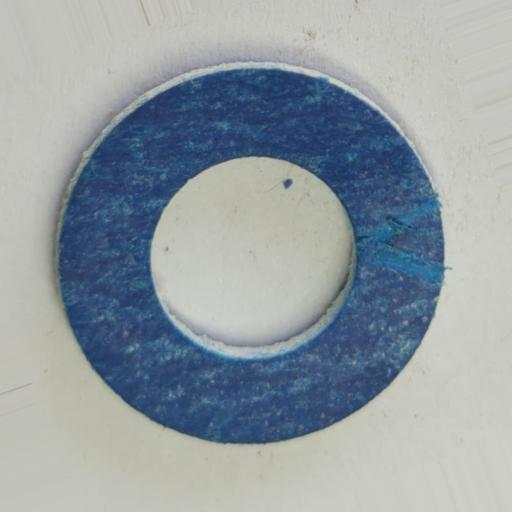defect: (365, 195, 446, 284)
